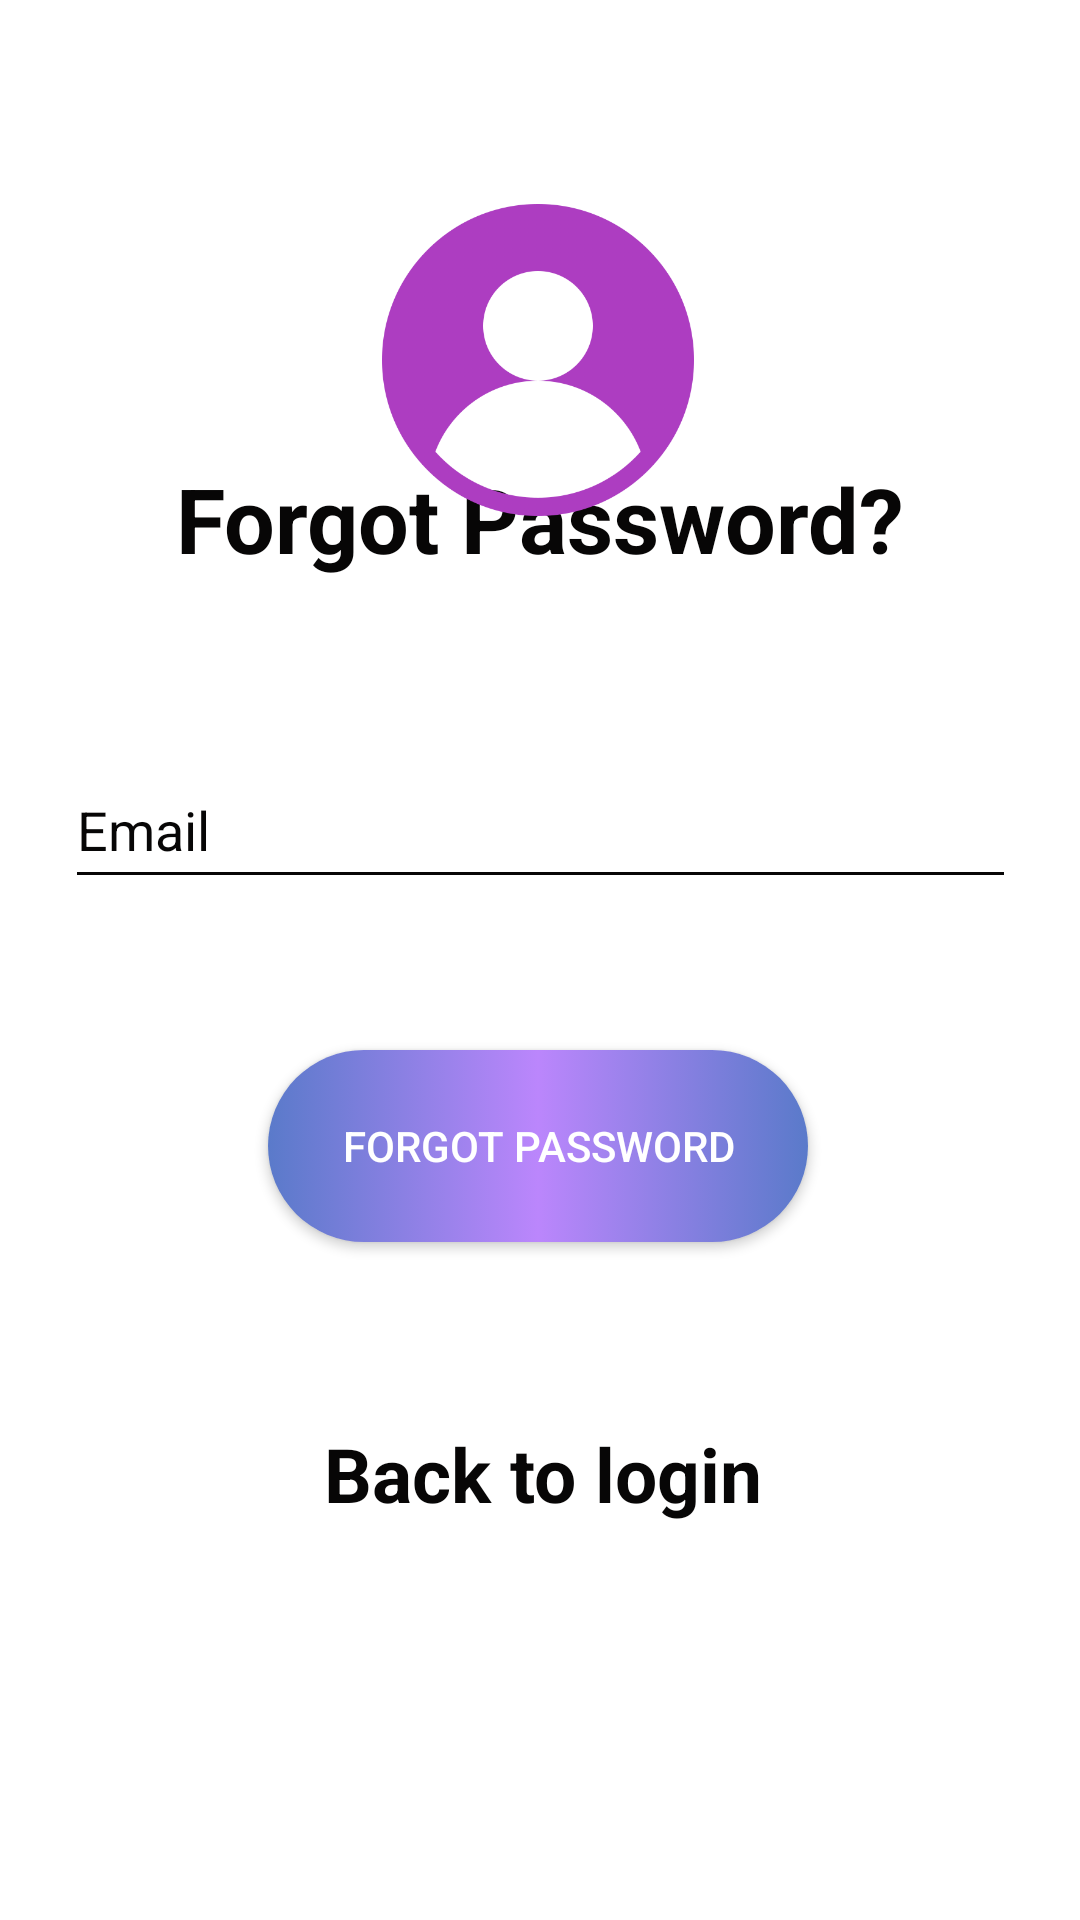

Named icons in this screenshot (1080 x 1920) and their bounding boxes, bbox(x1, y1, x2, y2):
user: bbox(382, 204, 694, 516)
